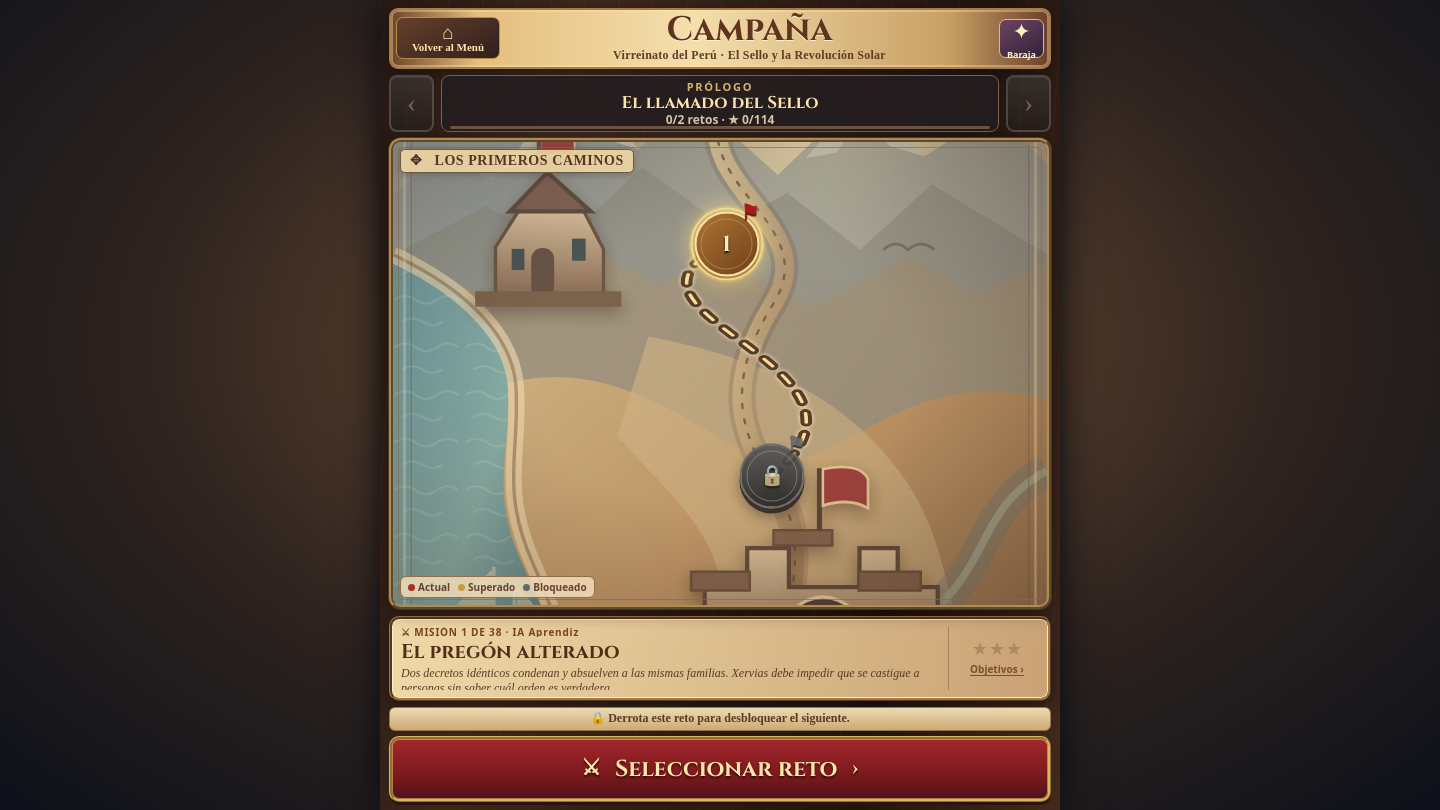
Scenario: the prologue removes redundant links and shows a direct return to the menu
Click the button "⌂ Volver al Menú": (448, 38) [396,17,500,59]
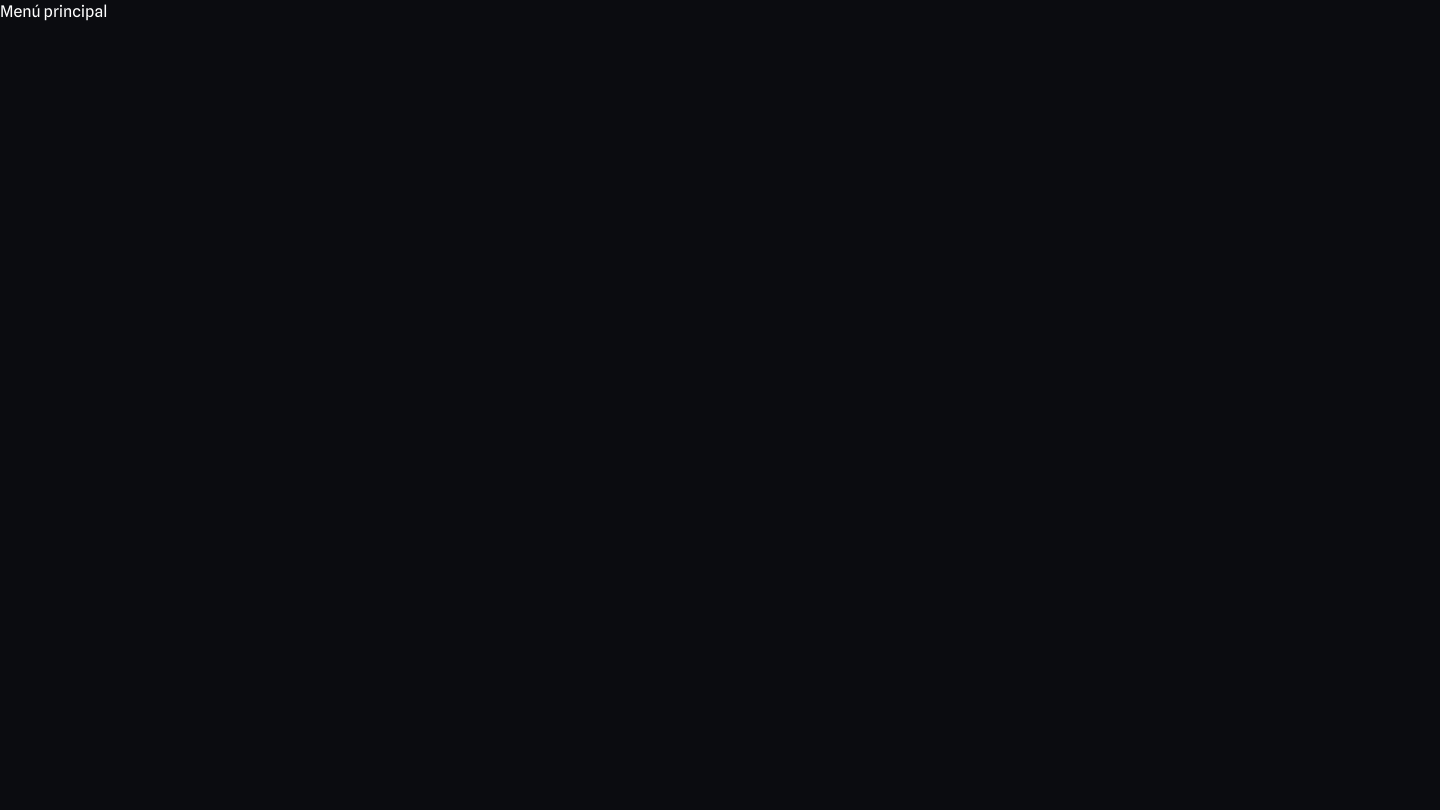
Check: the heading "Menú principal" is shown, box [0,2,107,21]
